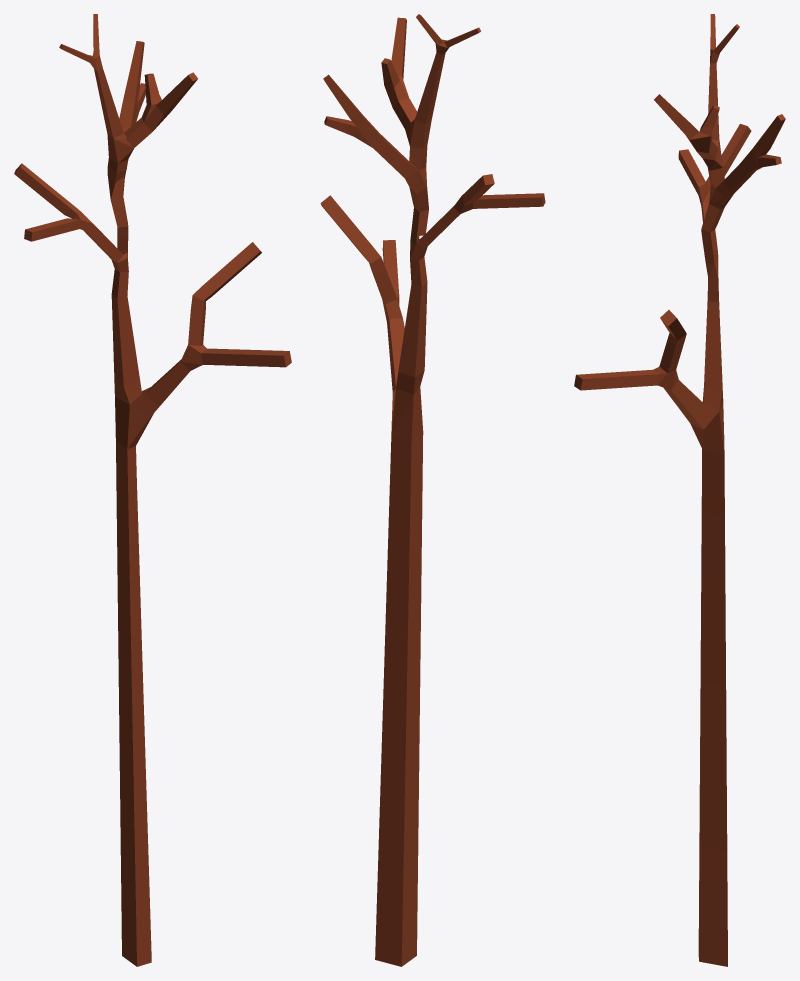
File: branch.fbx
The picture shows the model from 3 angles, left to right: view 1: azimuth 30°, elevation 25°; view 2: azimuth 150°, elevation 25°; view 3: azimuth 270°, elevation 25°; orthographic projection. The views are drawn at different scales.
Visible parts, largest first — view 1: Cube.001; view 2: Cube.001; view 3: Cube.001.
Boxes of the visible parts, <box> form: Cube.001: <box>14,14,291,966</box>; Cube.001: <box>320,14,545,966</box>; Cube.001: <box>574,14,785,966</box>.
Bounding box in the file's own units: 5820 × 23032 × 4808.
